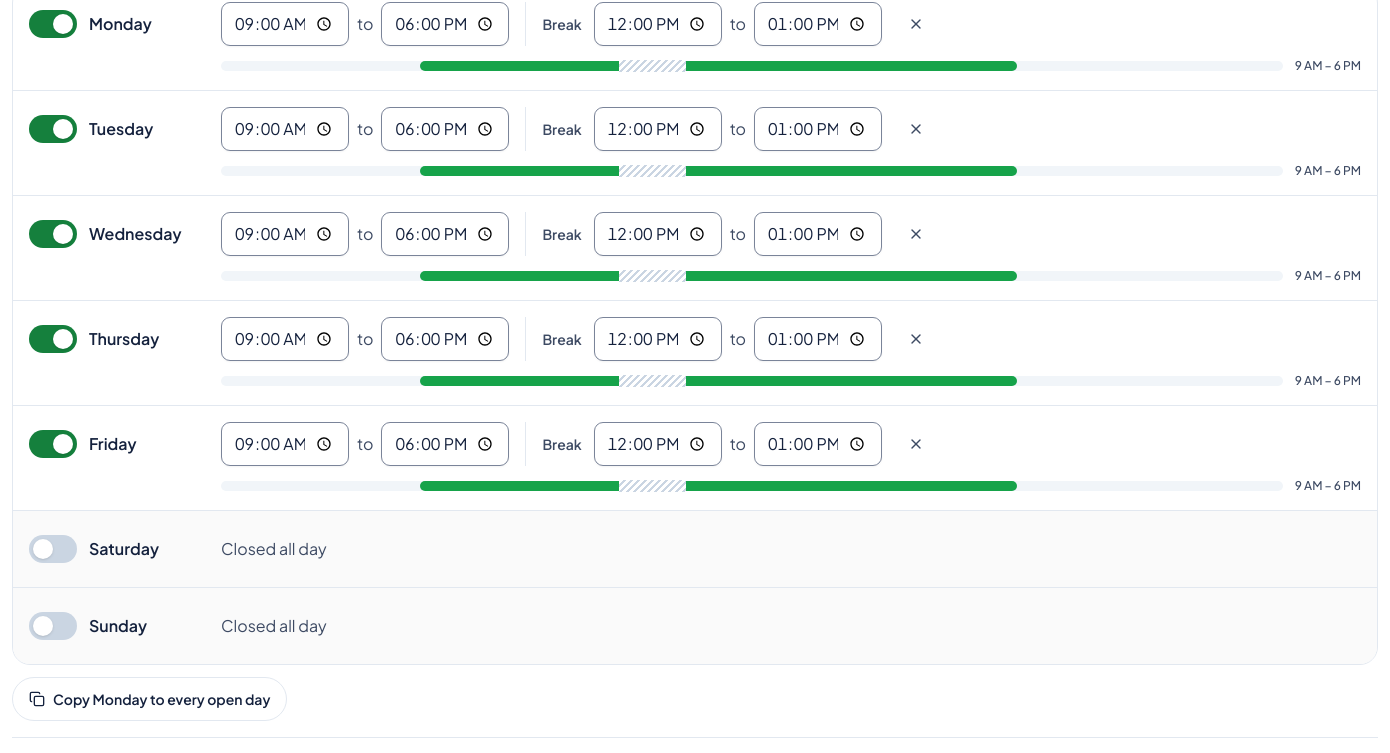
Test case: WeekHoursEditor in the hours form › opens a closed day with its switch, flags the change and resets it
Click the switch named "Sunday" next to "Sunday". click: point(53, 626)
box: [29,612,77,640]
(page scrolled)
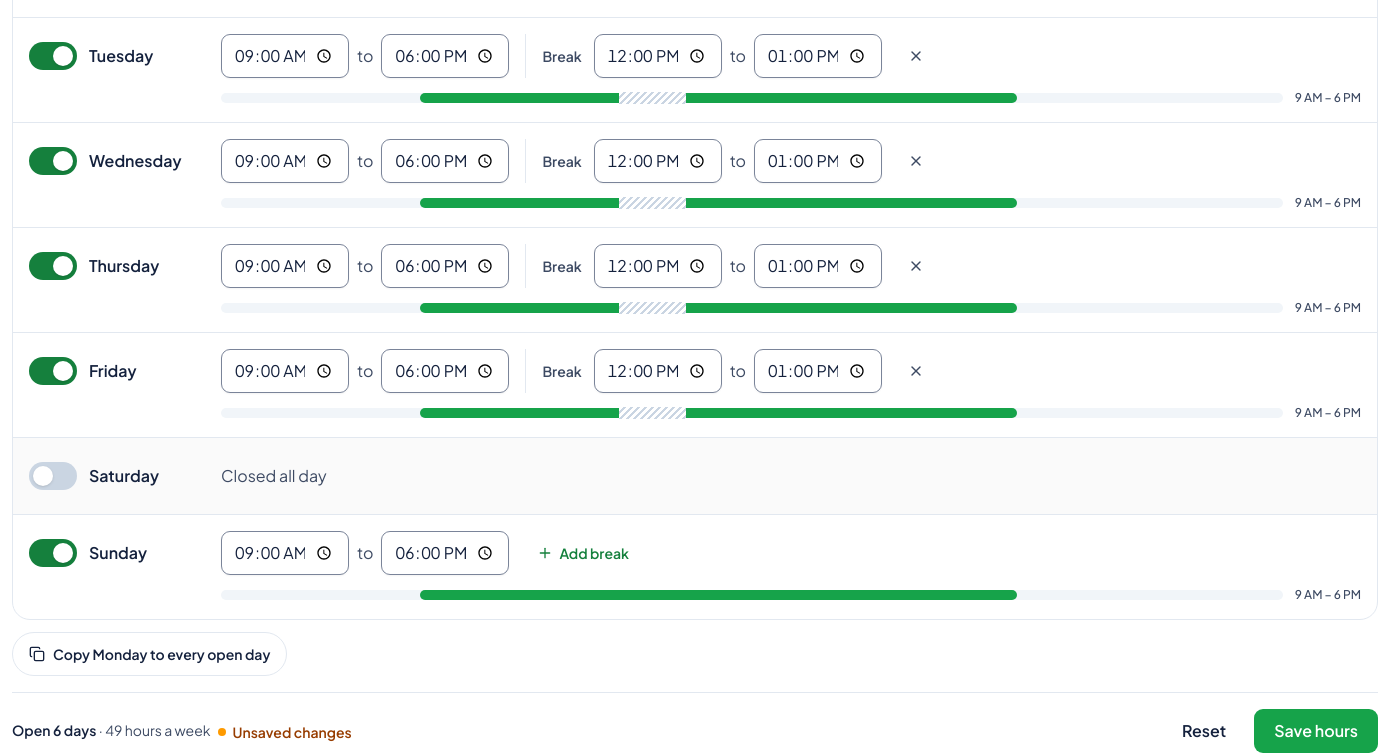
Expected: the text "Unsaved changes" is shown, [218,722,352,742]
Expected: the text "Open 6 days" is shown, [12,721,96,739]
Click the button "Reset". click: point(1204, 731)
box: [1162,709,1246,752]
(page scrolled)
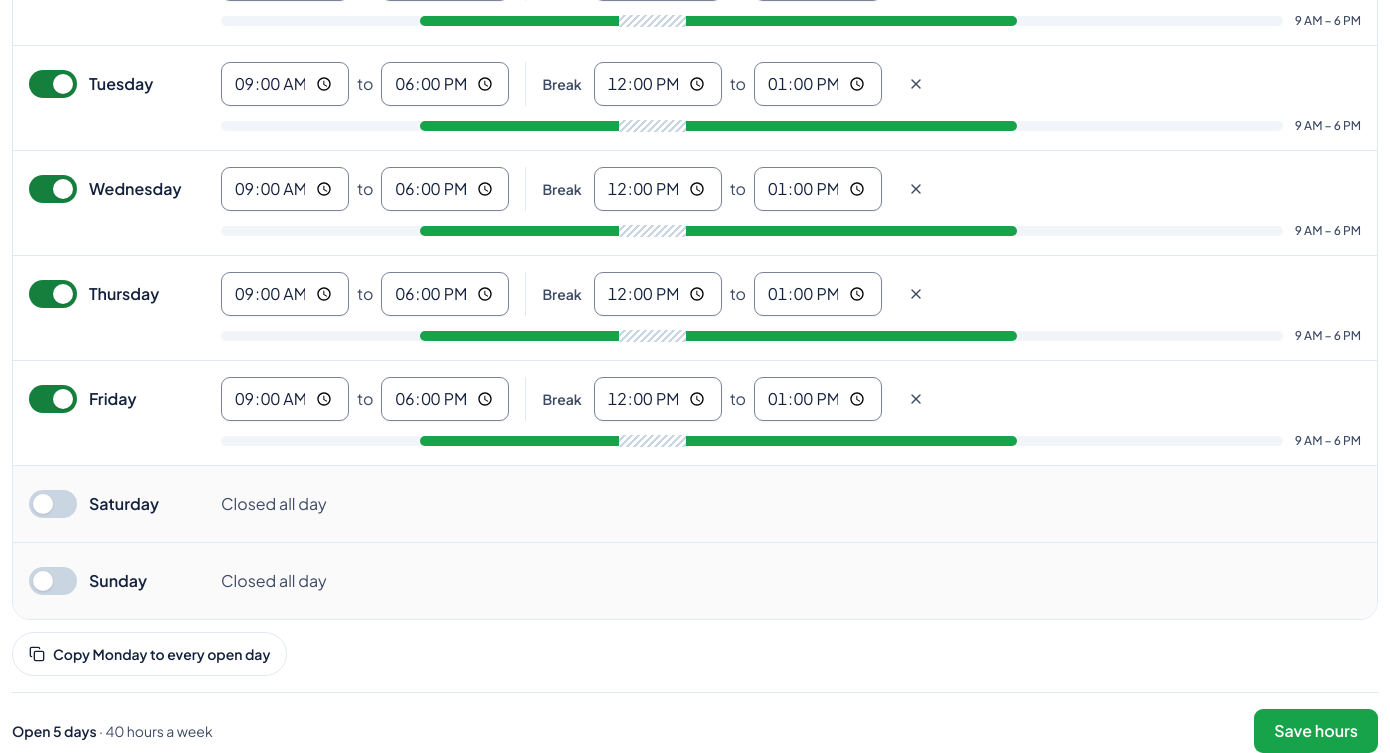
Expected: the field labelled "Sunday opens" is not shown
Expected: the text "Unsaved changes" is gone
